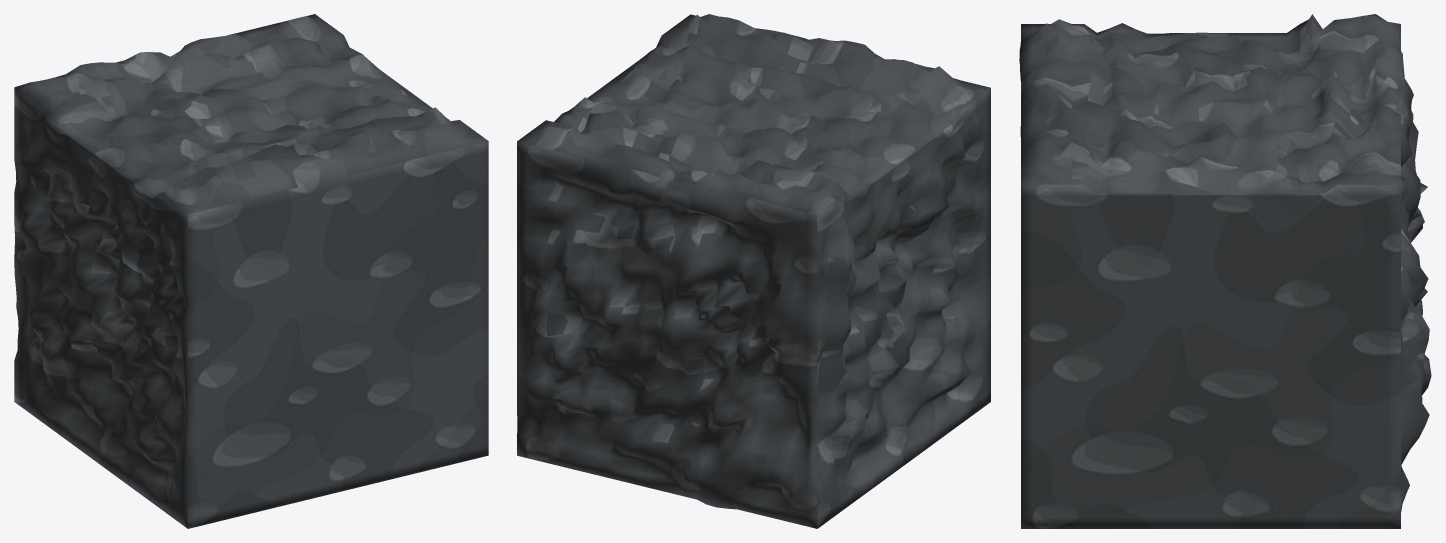
Rendered from ground sous chemin bleu.fbx.
The picture shows the model from 3 angles, left to right: view 1: azimuth 30°, elevation 25°; view 2: azimuth 150°, elevation 25°; view 3: azimuth 270°, elevation 25°; orthographic projection. The views are drawn at different scales.
Visible parts, largest first — view 1: Box001; view 2: Box001; view 3: Box001.
Part boxes in pixels (left/top/right/bottom): Box001: left=14, top=14, right=488, bottom=528; Box001: left=517, top=14, right=990, bottom=528; Box001: left=1019, top=14, right=1431, bottom=528.
Size of the model in its own units: 41.62 by 42.64 by 42.7.
